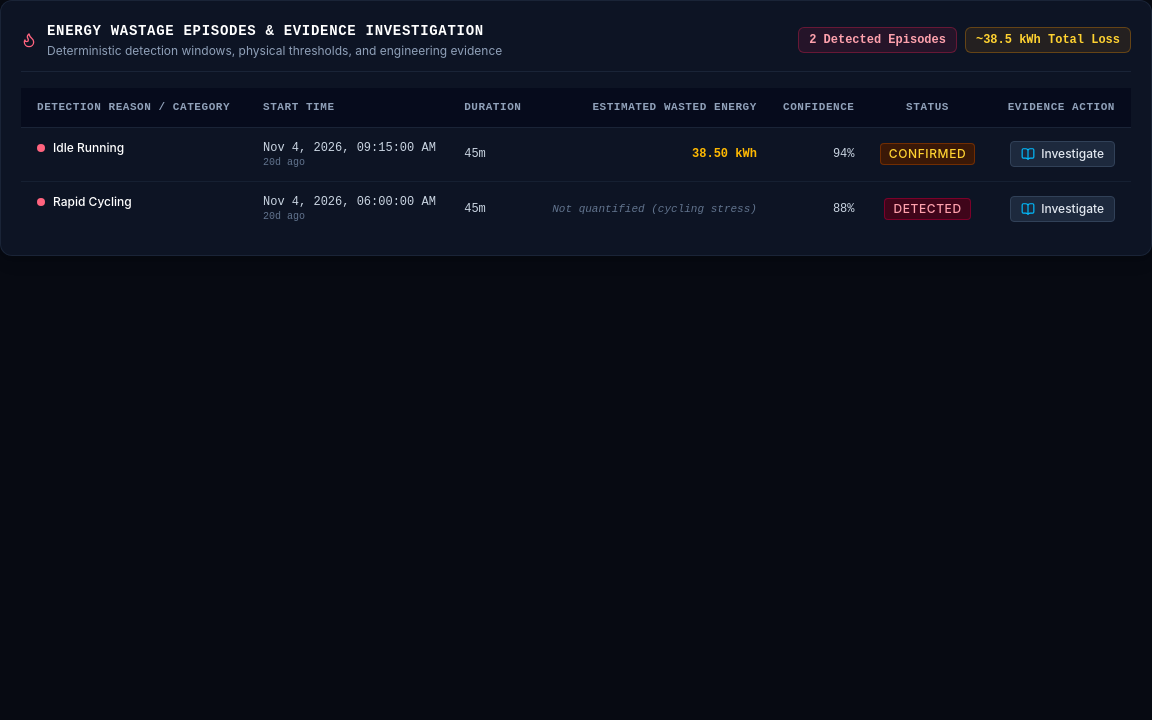
Stage 9C: Machine Detail & Live Telemetry Experience › WastageInvestigationSection › renders detected episodes table and opens evidence investigation modal
Expected: the heading "Energy Wastage Episodes & Evidence Investigation" is shown, [47,21,502,41]
Expected: the text "2 Detected Episodes" is shown, [798,27,957,53]
Note: Click Investigate on the first episode
Step 1. Click the button "Investigate" in the row of "idle running" → (1063, 154), box [1010,141,1115,167]
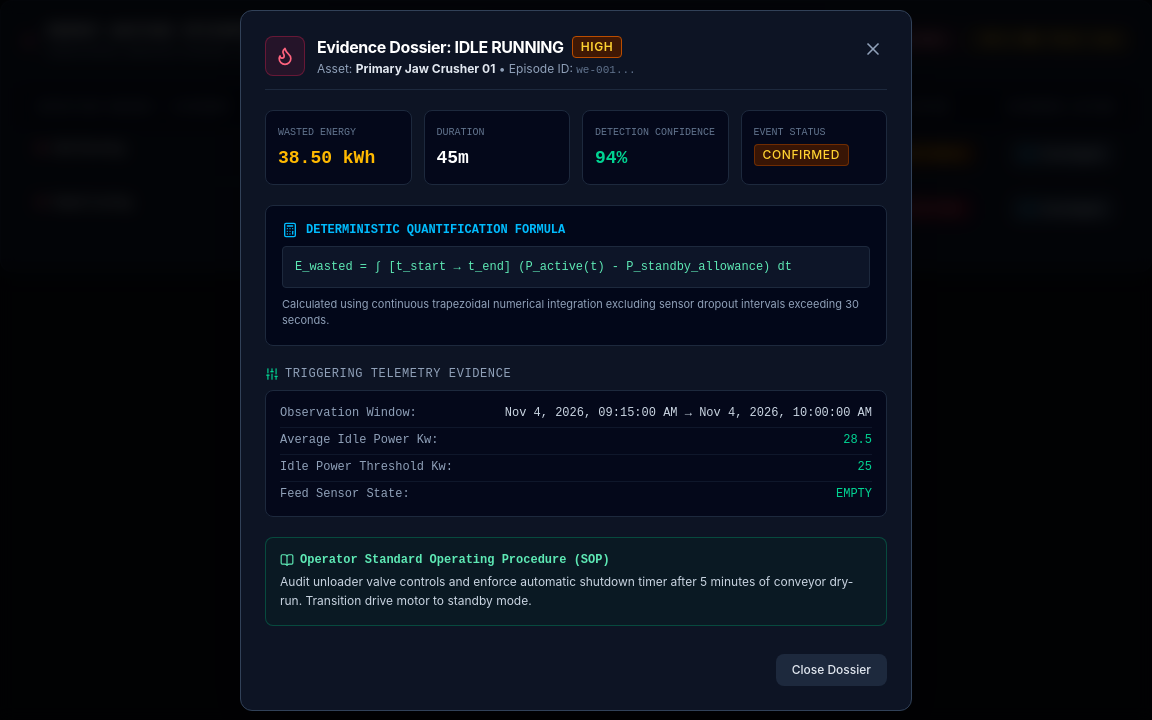
Expected: the heading "Evidence Dossier: IDLE RUNNING" is shown, [317,34,564,58]
Expected: the text "Deterministic Quantification Formula" is shown, [306,222,565,238]
Expected: the text "Operator Standard Operating Procedure (SOP)" is shown, [300,552,610,568]
Note: Close modal
Step 2. Click the button "Close Dossier" → (831, 670), box [776,654,887,686]
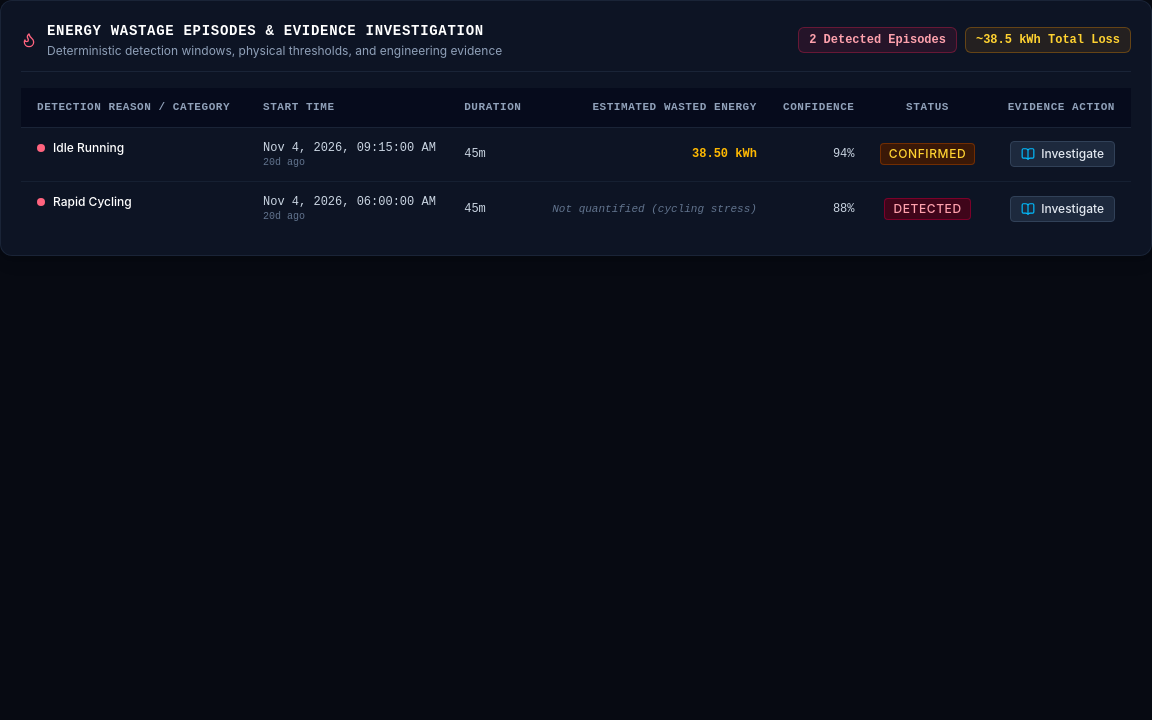
Expected: the heading "Evidence Dossier: IDLE RUNNING" is gone
